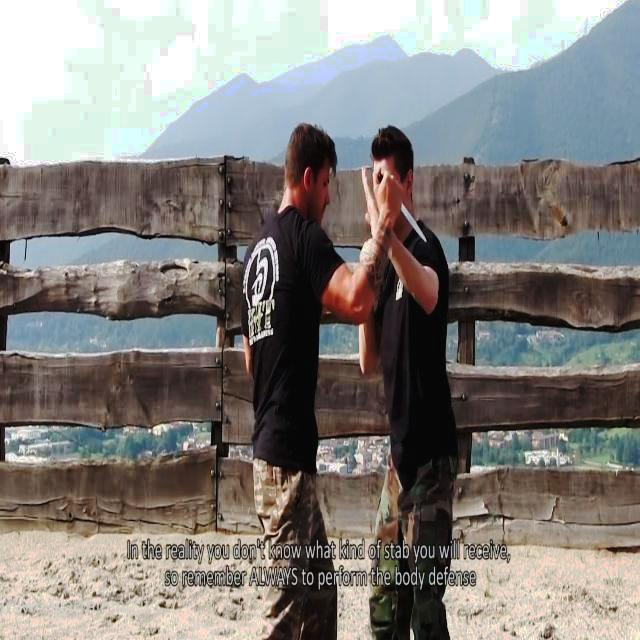Knife: (388, 188, 430, 242)
